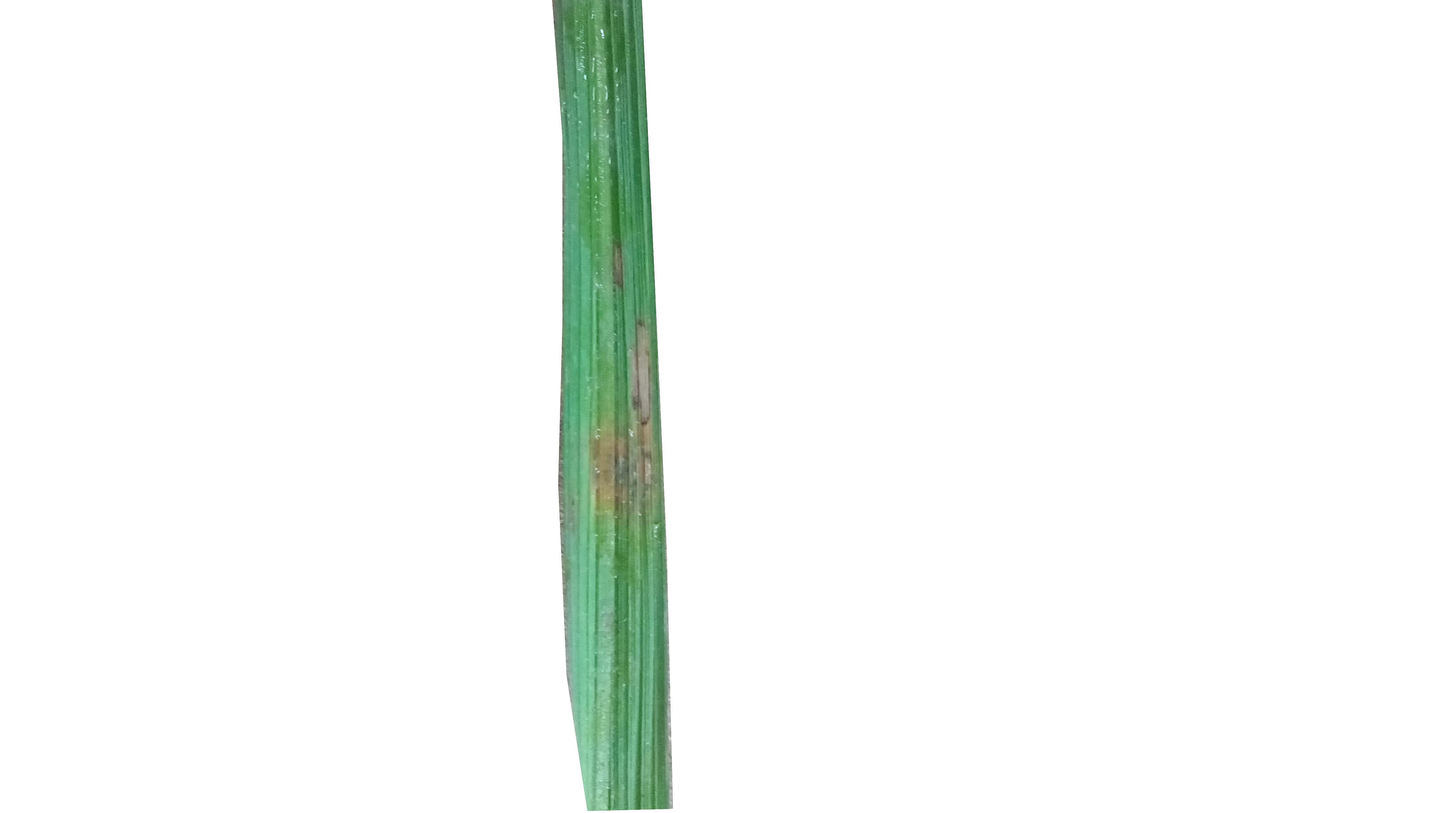Rice blast: (596, 313, 653, 516)
